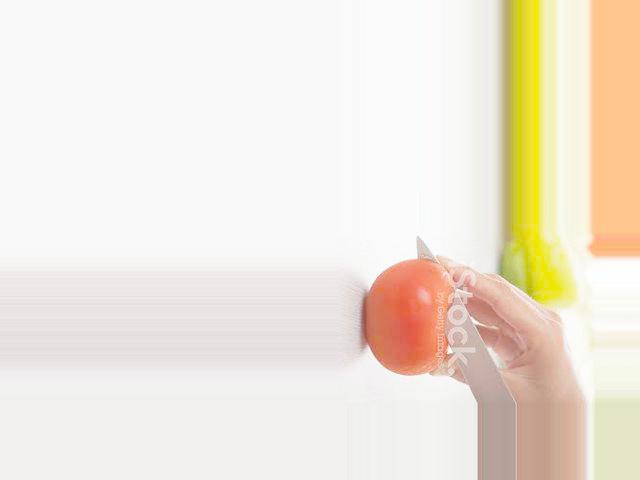tomato: (362, 259, 453, 377)
